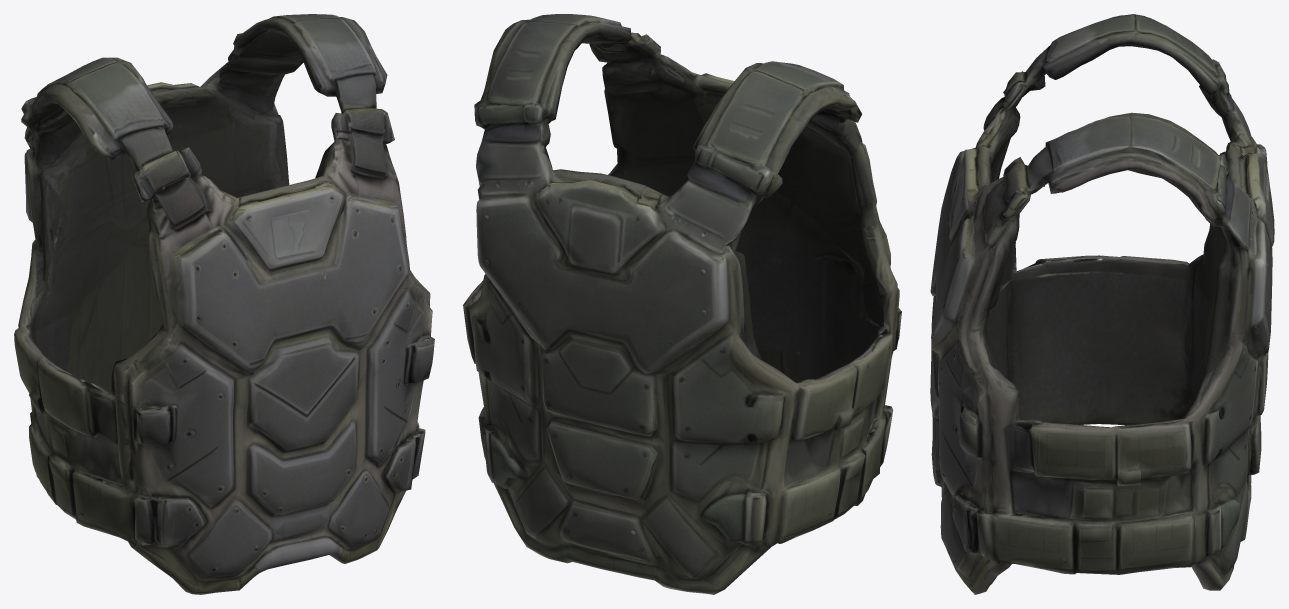
The model's file is armor_vest.glb.
3 renders of one model, left to right at view 1: azimuth 30°, elevation 25°; view 2: azimuth 150°, elevation 25°; view 3: azimuth 270°, elevation 25°, orthographic. The views are drawn at different scales.
Visible parts, largest first — view 1: Object_4; view 2: Object_4; view 3: Object_4.
Part boxes in pixels (x1,y1,x2,y2): Object_4: (14, 14, 434, 594); Object_4: (463, 14, 901, 594); Object_4: (930, 14, 1274, 594).
Bounding box in the file's own units: 1.59 × 2 × 1.31.
Materials: 1 (1 with a texture image).
